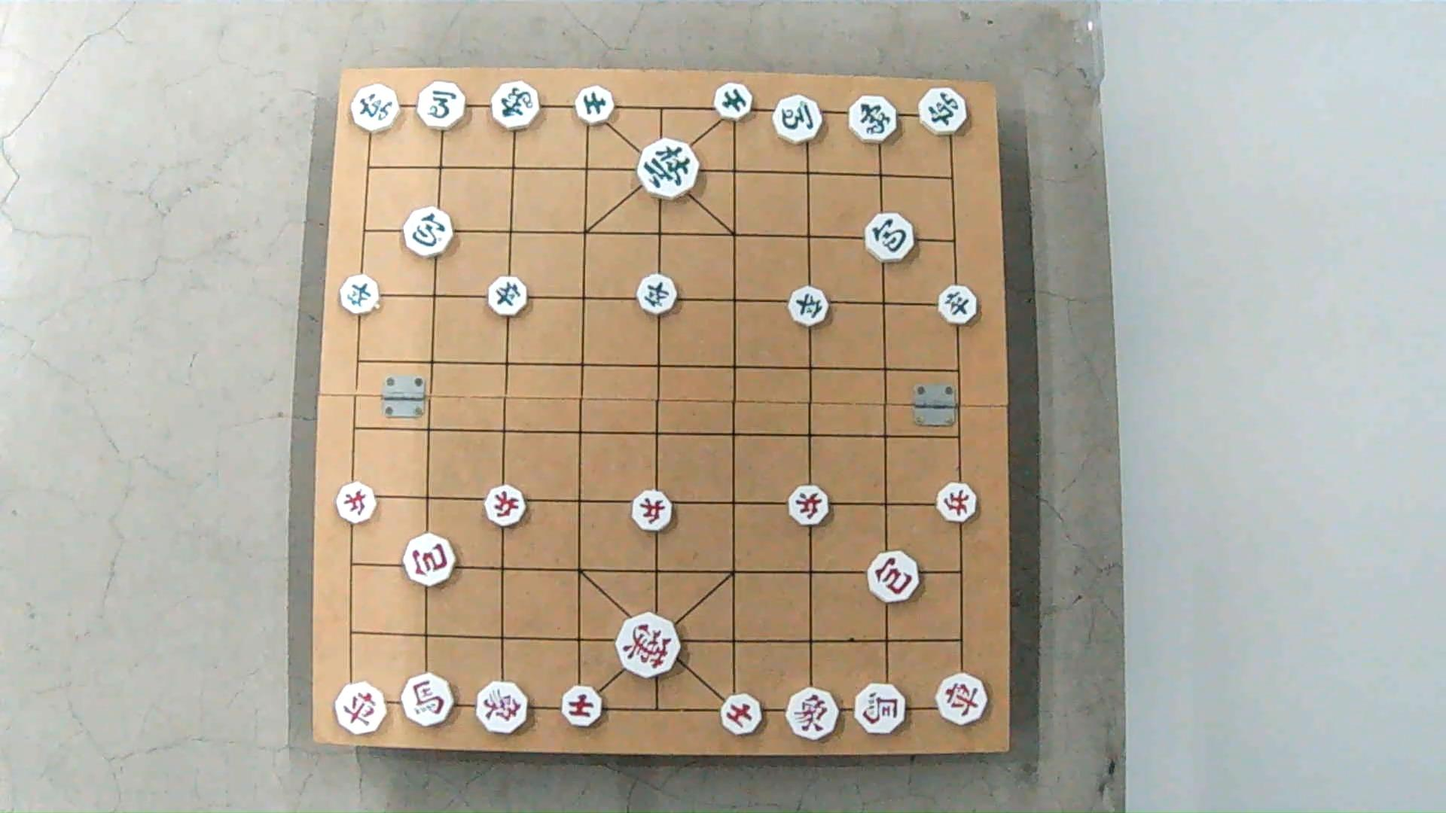cha_green: (918, 88, 969, 136), (349, 82, 397, 131)
cha_red: (334, 684, 386, 735), (938, 675, 990, 725)
jol_green: (634, 275, 677, 313), (486, 276, 526, 315), (789, 288, 830, 326), (337, 278, 377, 315), (939, 288, 978, 325)
jol_red: (630, 491, 673, 531), (789, 486, 831, 526), (483, 487, 526, 526), (936, 481, 978, 519), (334, 486, 377, 523)
ma_green: (774, 96, 825, 142), (419, 82, 468, 128)
ma_red: (400, 672, 459, 722), (853, 686, 905, 734)
po_green: (865, 213, 916, 260), (401, 209, 451, 256)
po_red: (868, 553, 921, 602), (403, 537, 455, 586)
sa_green: (577, 87, 618, 123), (715, 85, 750, 120)
sa_red: (560, 684, 603, 729), (718, 693, 761, 735)
sang_green: (847, 93, 898, 144), (490, 80, 540, 129)
sang_red: (474, 683, 530, 735), (787, 690, 838, 739)
wang_green: (636, 142, 699, 199)
wang_red: (615, 619, 681, 678)
